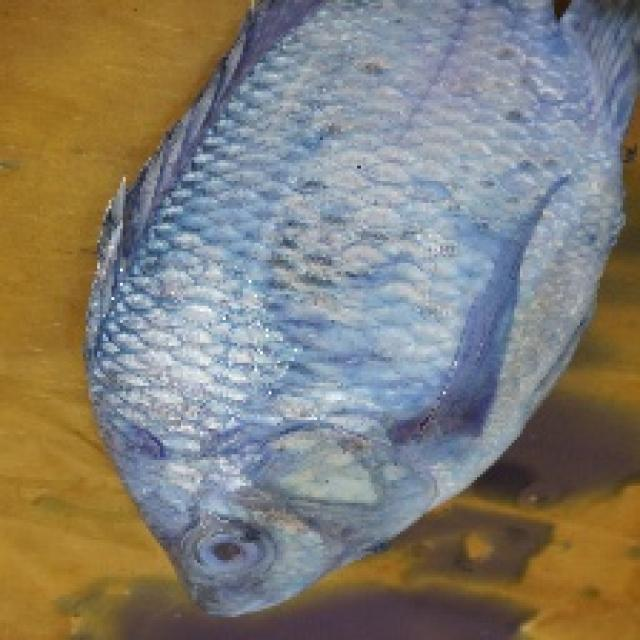Non-Fresh: (76, 54, 625, 618), (185, 517, 273, 589)
